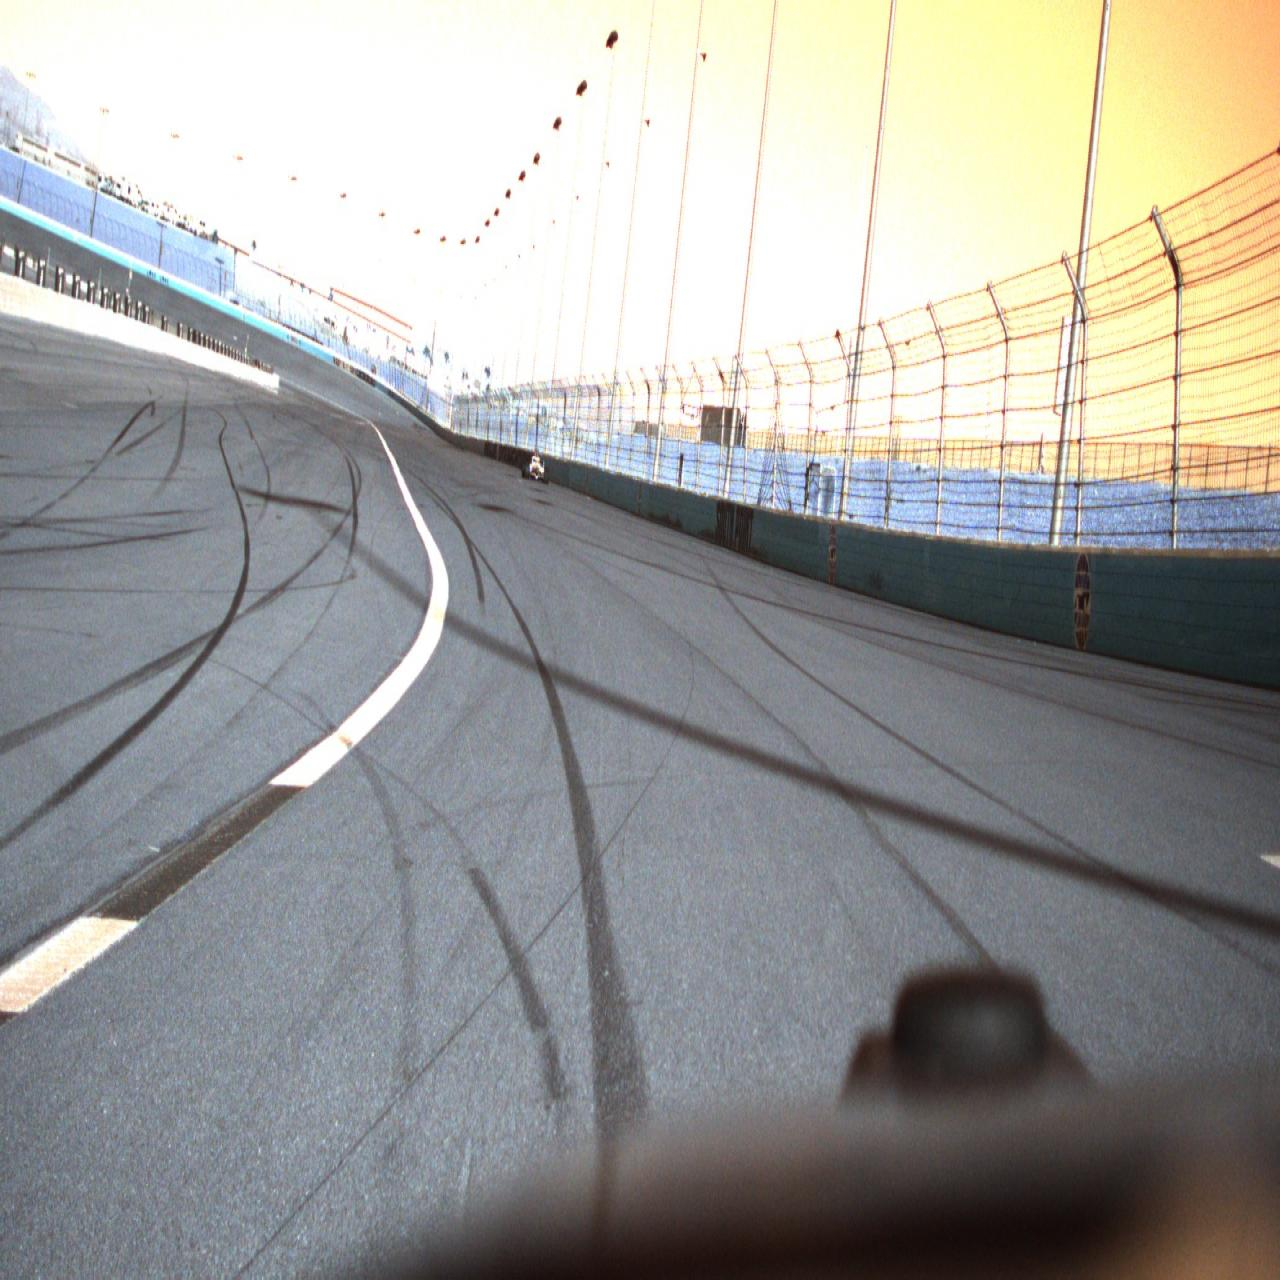AV: (522, 445, 550, 485)
Wheel: (544, 467, 550, 484), (522, 460, 527, 478), (524, 462, 529, 479)
